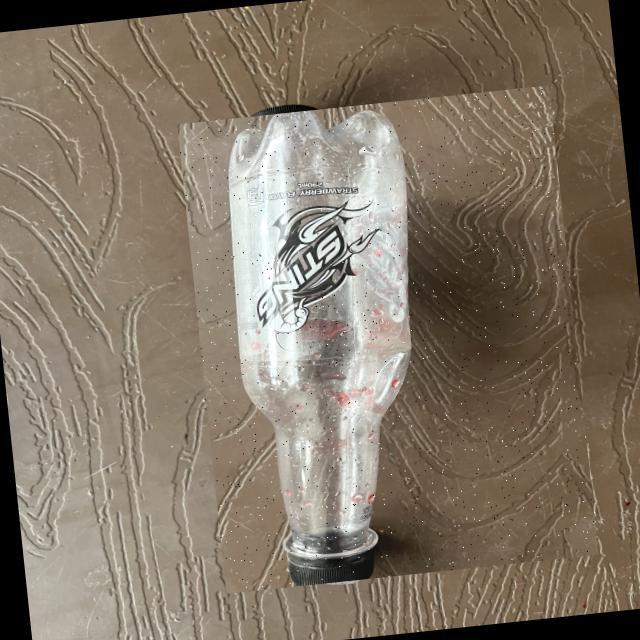REJECT: (177, 84, 598, 594)
